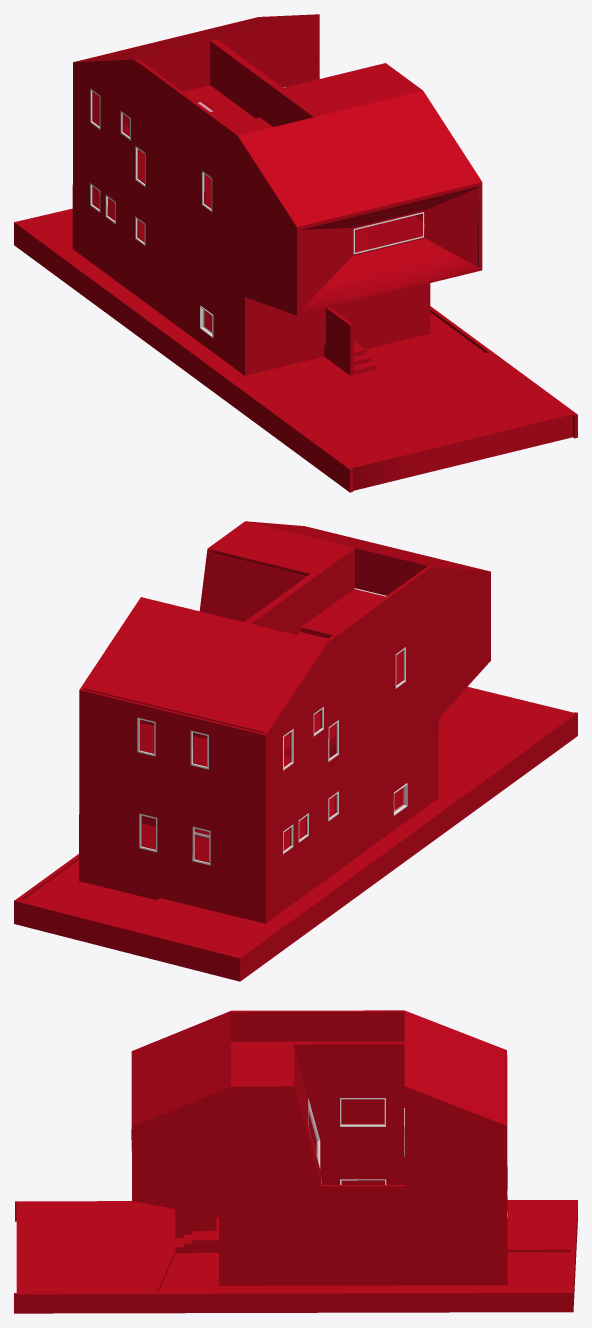
File: asset.glb
3 renders of one model, top to bottom at view 1: azimuth 30°, elevation 25°; view 2: azimuth 150°, elevation 25°; view 3: azimuth 270°, elevation 25°, orthographic. The views are drawn at different scales.
Visible parts, largest first — view 1: 3D_FACADE_BLACK, 3D_FIRST FLOOR, 3D_FACADE_REFLECTIVE, 3D_SURROUNDING CONTEXT, 3D_WALL, 3D_FLOOR, 3D_WINDOW FRAMES, 3D_TURF, 3D_FACADE_REFLECTIVE.001, 3d_Glass, Windows frames, 3D_FACADE_WHITE; view 2: 3D_FACADE_BLACK, 3D_FIRST FLOOR, 3D_SURROUNDING CONTEXT, 3D_FACADE_WHITE, 3D_TURF, 3D_FLOOR, 3D_WINDOW FRAMES, 3d_Glass, Windows frames, 3D_WALL; view 3: 3D_FACADE_BLACK, 3D_FIRST FLOOR, 3D_SURROUNDING CONTEXT, 3D_FACADE_WHITE, 3D_TURF, 3d_Glass, Windows frames.
Boxes of the visible parts, left/top/right/bottom form: 3D_FACADE_BLACK: left=72, top=14, right=482, bottom=363; 3D_FIRST FLOOR: left=31, top=212, right=572, bottom=490; 3D_FACADE_REFLECTIVE: left=300, top=186, right=478, bottom=314; 3D_SURROUNDING CONTEXT: left=14, top=208, right=577, bottom=492; 3D_WALL: left=141, top=18, right=316, bottom=91; 3D_FLOOR: left=124, top=85, right=470, bottom=262; 3D_WINDOW FRAMES: left=210, top=44, right=309, bottom=126; 3D_TURF: left=366, top=312, right=485, bottom=369; 3D_FACADE_REFLECTIVE.001: left=425, top=187, right=478, bottom=266; 3d_Glass: left=92, top=92, right=422, bottom=251; Windows frames: left=90, top=87, right=425, bottom=337; 3D_FACADE_WHITE: left=210, top=39, right=282, bottom=91; 3D_FACADE_BLACK: left=79, top=521, right=490, bottom=911; 3D_FIRST FLOOR: left=79, top=686, right=574, bottom=950; 3D_SURROUNDING CONTEXT: left=14, top=712, right=577, bottom=981; 3D_FACADE_WHITE: left=203, top=553, right=317, bottom=756; 3D_TURF: left=24, top=860, right=156, bottom=924; 3D_FLOOR: left=139, top=588, right=386, bottom=766; 3D_WINDOW FRAMES: left=254, top=552, right=354, bottom=634; 3d_Glass: left=140, top=650, right=403, bottom=862; Windows frames: left=137, top=647, right=407, bottom=865; 3D_WALL: left=142, top=551, right=424, bottom=839; 3D_FACADE_BLACK: left=131, top=1010, right=507, bottom=1272; 3D_FIRST FLOOR: left=16, top=1201, right=571, bottom=1292; 3D_SURROUNDING CONTEXT: left=14, top=1200, right=577, bottom=1313; 3D_FACADE_WHITE: left=293, top=1041, right=404, bottom=1184; 3D_TURF: left=158, top=1252, right=569, bottom=1292; 3d_Glass: left=309, top=1099, right=384, bottom=1184; Windows frames: left=308, top=1098, right=507, bottom=1217.
Size of the model in its own units: 14.52 by 15.8 by 37.21.
